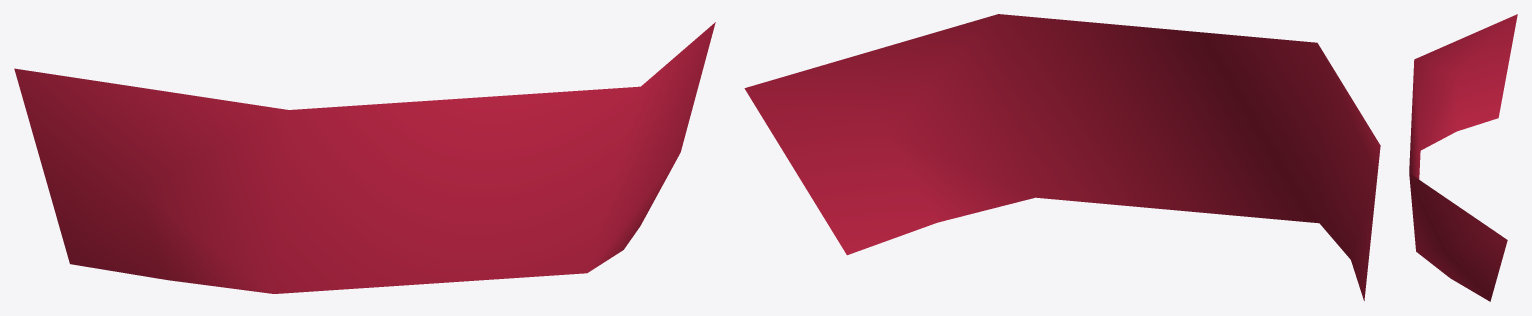
The picture shows the model from 3 angles, left to right: view 1: azimuth 30°, elevation 25°; view 2: azimuth 150°, elevation 25°; view 3: azimuth 270°, elevation 25°; orthographic projection. The views are drawn at different scales.
Visible parts, largest first — view 1: ef_426; view 2: ef_426; view 3: ef_426.
Boxes of the visible parts, x1,y1,x2,y2 form: ef_426: [14, 22, 715, 293]; ef_426: [744, 14, 1380, 300]; ef_426: [1409, 14, 1517, 301].
Bounding box in the file's own units: 1.04 × 0.4075 × 0.2829.
Materials: 1 (1 with a texture image).
